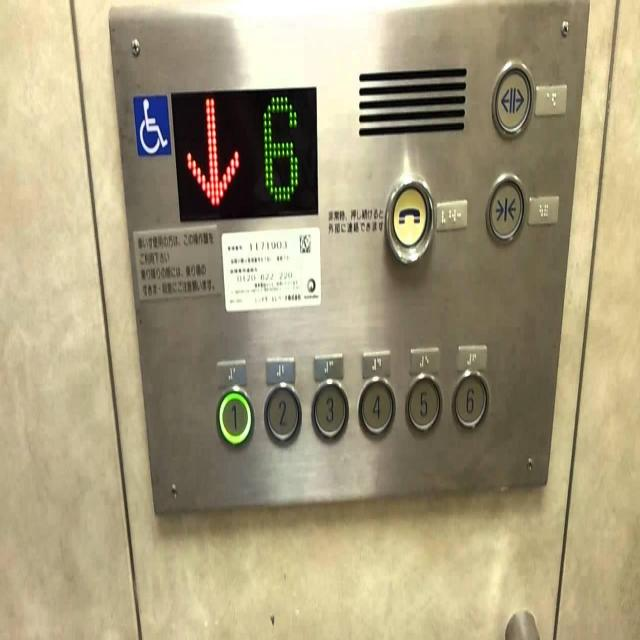1: (214, 382, 256, 449)
2: (262, 381, 304, 451)
3: (309, 378, 350, 444)
4: (355, 376, 396, 441)
5: (403, 372, 443, 436)
6: (450, 367, 490, 431)
CH: (130, 92, 172, 162)
call: (384, 173, 437, 266)
close: (482, 169, 526, 247)
led: (168, 84, 321, 228)
open: (488, 57, 536, 143)
